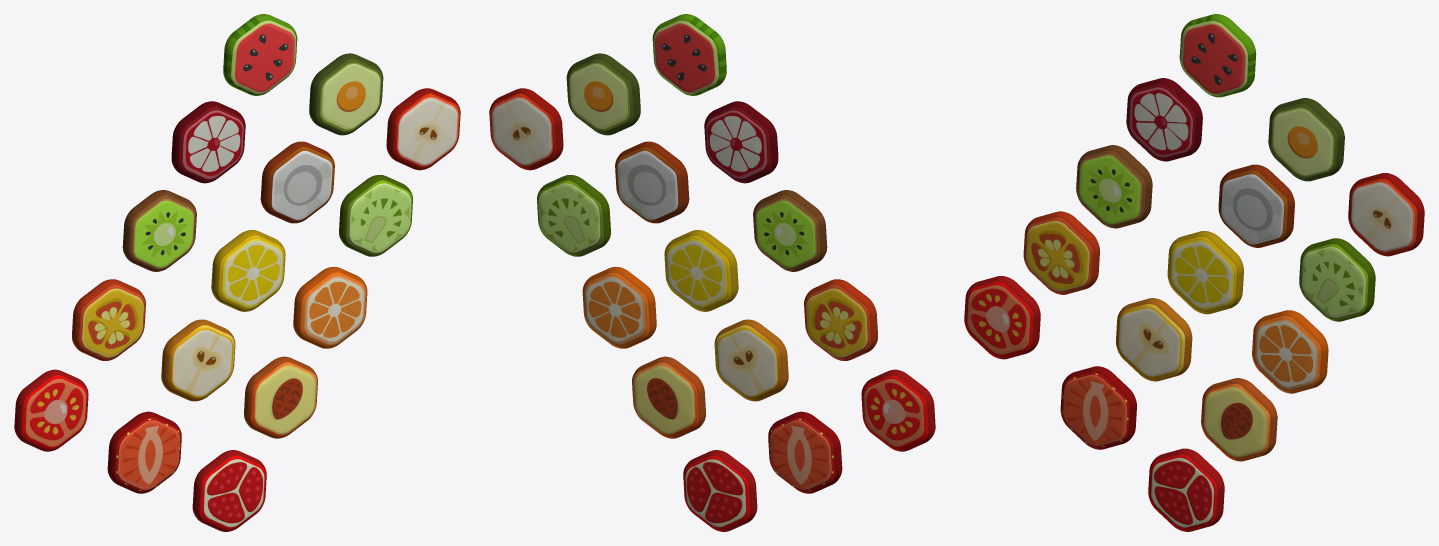
Rendered from juice_fruit.fbx.
3 views of the same model, side by side, from view 1: azimuth 30°, elevation 25°; view 2: azimuth 150°, elevation 25°; view 3: azimuth 330°, elevation 25° (orthographic). The views are drawn at different scales.
Visible parts, largest first — view 1: Circle.021, Circle.023, Circle.030, Circle.018, Circle.026, Circle.029, Circle.020, Circle.019, Circle.024, Circle.028, Circle.016, Circle.022 (+3 smaller); view 2: Circle.021, Circle.023, Circle.030, Circle.018, Circle.026, Circle.029, Circle.020, Circle.019, Circle.024, Circle.028, Circle.016, Circle.022 (+3 smaller); view 3: Circle.027, Circle.029, Circle.018, Circle.028, Circle.030, Circle.017, Circle.024, Circle.025, Circle.026, Circle.019, Circle.022, Circle.016 (+3 smaller).
Boxes of the visible parts, box(x1,y1,x2,y2) form: Circle.021: box(171, 101, 245, 183); Circle.023: box(211, 230, 285, 311); Circle.030: box(14, 369, 88, 451); Circle.018: box(386, 88, 460, 170); Circle.026: box(161, 319, 235, 401); Circle.029: box(107, 411, 181, 493); Circle.020: box(260, 141, 334, 223); Circle.019: box(309, 53, 383, 135); Circle.024: box(293, 266, 367, 348); Circle.028: box(192, 450, 266, 531); Circle.016: box(223, 14, 297, 95); Circle.022: box(122, 190, 196, 271); Circle.021: box(704, 101, 778, 183); Circle.023: box(664, 230, 738, 311); Circle.030: box(861, 369, 935, 451); Circle.018: box(489, 88, 563, 170); Circle.026: box(714, 319, 788, 401); Circle.029: box(768, 411, 842, 493); Circle.020: box(615, 141, 689, 223); Circle.019: box(566, 53, 640, 135); Circle.024: box(582, 266, 656, 348); Circle.028: box(683, 450, 757, 531); Circle.016: box(652, 14, 726, 95); Circle.022: box(753, 190, 827, 271); Circle.027: box(1023, 211, 1099, 294); Circle.029: box(1060, 366, 1136, 449); Circle.018: box(1348, 173, 1424, 256); Circle.028: box(1148, 448, 1224, 531); Circle.030: box(964, 276, 1040, 359); Circle.017: box(1299, 238, 1375, 321); Circle.024: box(1252, 310, 1328, 393); Circle.025: box(1201, 378, 1277, 461); Circle.026: box(1116, 298, 1192, 381); Circle.019: box(1268, 98, 1344, 181); Circle.022: box(1076, 145, 1152, 228); Circle.016: box(1179, 14, 1256, 97).
Size of the model in its own units: 4094 by 4474 by 142.
Materials: 15 (15 with a texture image).
